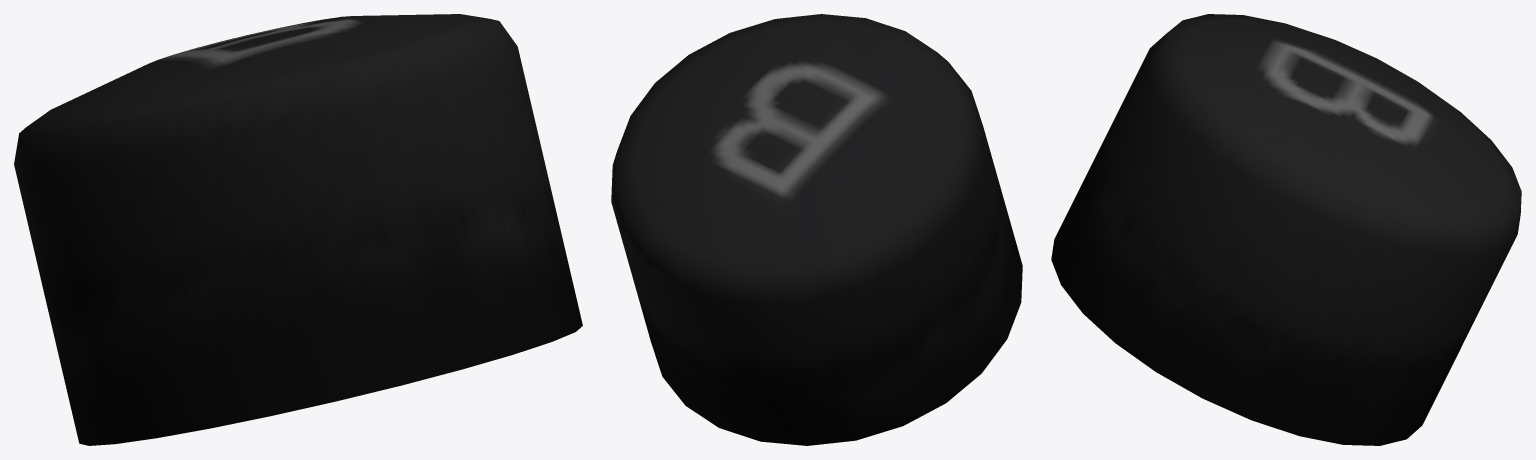
File: button_b.obj
3 views of the same model, side by side, from view 1: azimuth 30°, elevation 25°; view 2: azimuth 150°, elevation 25°; view 3: azimuth 270°, elevation 25° (orthographic). The views are drawn at different scales.
Parts seen in each view (by area): view 1: l_button_b; view 2: l_button_b; view 3: l_button_b.
Boxes of the visible parts, x1,y1,x2,y2 form: l_button_b: [14, 14, 582, 445]; l_button_b: [611, 14, 1022, 445]; l_button_b: [1051, 14, 1521, 445].
Bounding box in the file's own units: 0.009 × 0.00858 × 0.0102.
Materials: 1 (1 with a texture image).
